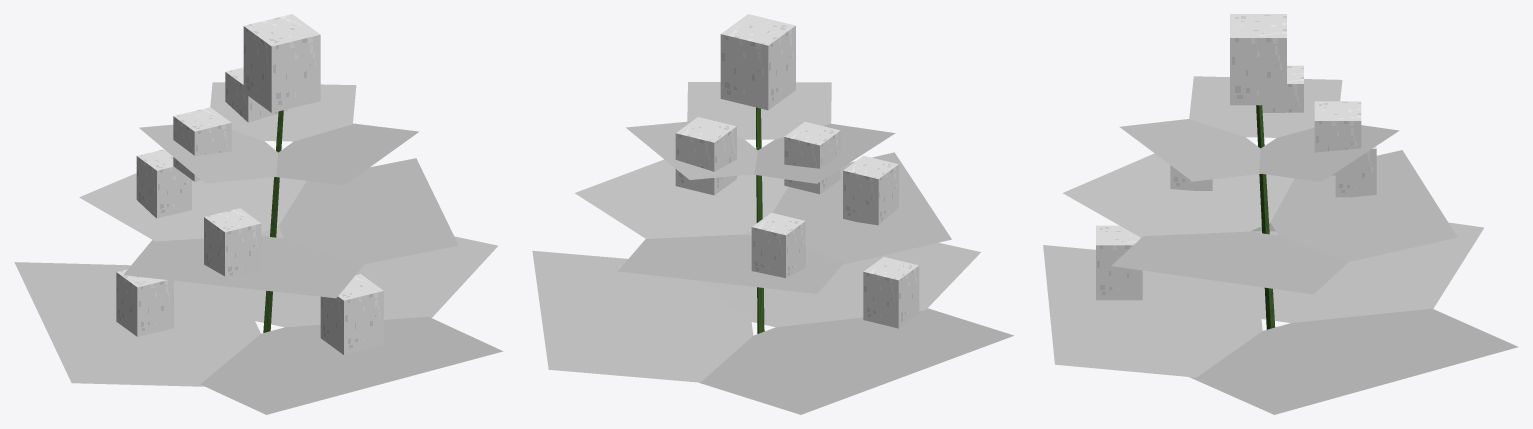
The model's file is plant_3_3_2_lod.obj.
3 renders of one model, left to right at view 1: azimuth 30°, elevation 25°; view 2: azimuth 150°, elevation 25°; view 3: azimuth 270°, elevation 25°, orthographic. The views are drawn at different scales.
Visible parts, largest first — view 1: model; view 2: model; view 3: model.
Part boxes in pixels (x1,y1,x2,y2): model: (14,14,503,414); model: (532,14,1013,414); model: (1043,14,1518,414).
Size of the model in its own units: 1.33 by 0.9617 by 1.18.
